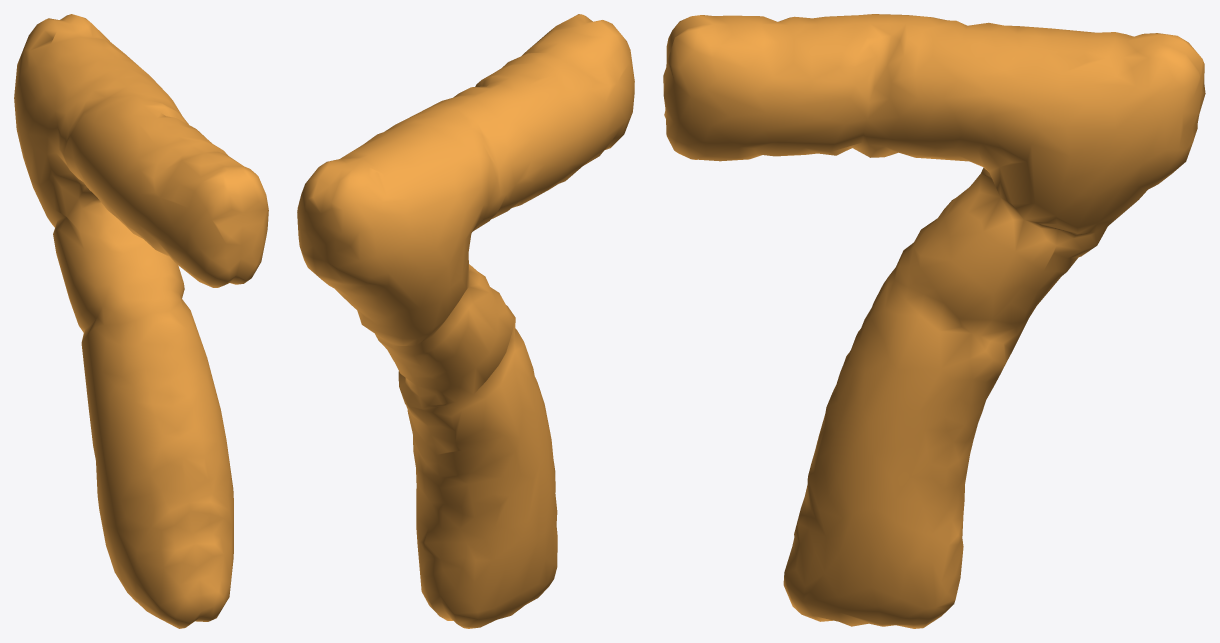
Rendered from ballon7.glb.
3 renders of one model, left to right at view 1: azimuth 30°, elevation 25°; view 2: azimuth 150°, elevation 25°; view 3: azimuth 270°, elevation 25°, orthographic. The views are drawn at different scales.
Parts seen in each view (by area): view 1: 7; view 2: 7; view 3: 7.
Part boxes in pixels (left/top/right/bottom): 7: left=14, top=14, right=268, bottom=628; 7: left=297, top=14, right=634, bottom=628; 7: left=663, top=14, right=1205, bottom=628.
Size of the model in its own units: 0.8434 by 2.93 by 2.45.
